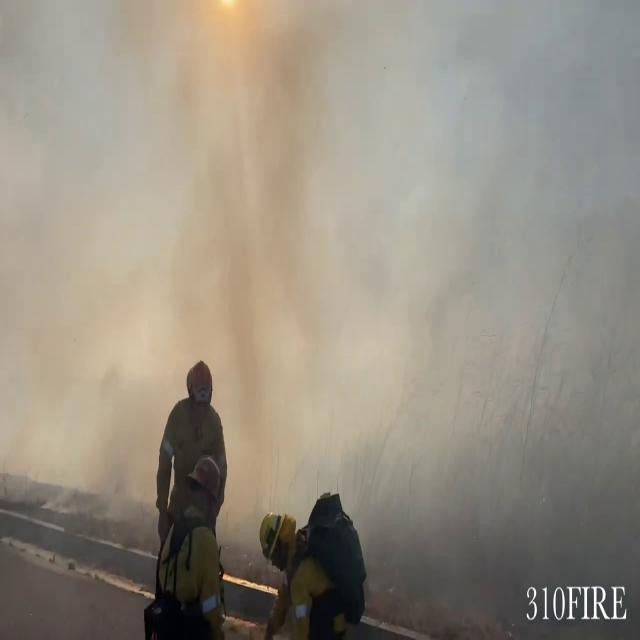Smoke: (0, 1, 637, 533)
